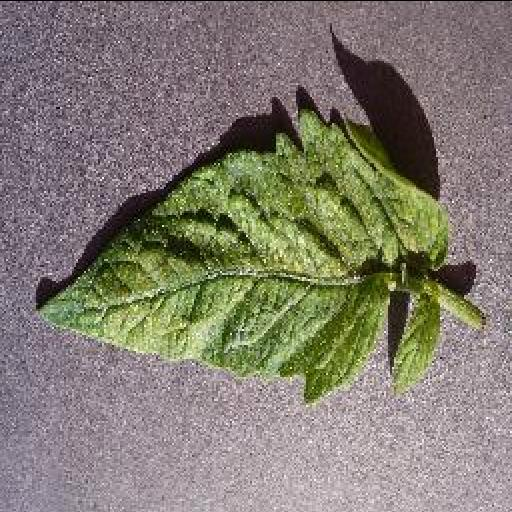disease_tomato: (36, 110, 446, 402)
